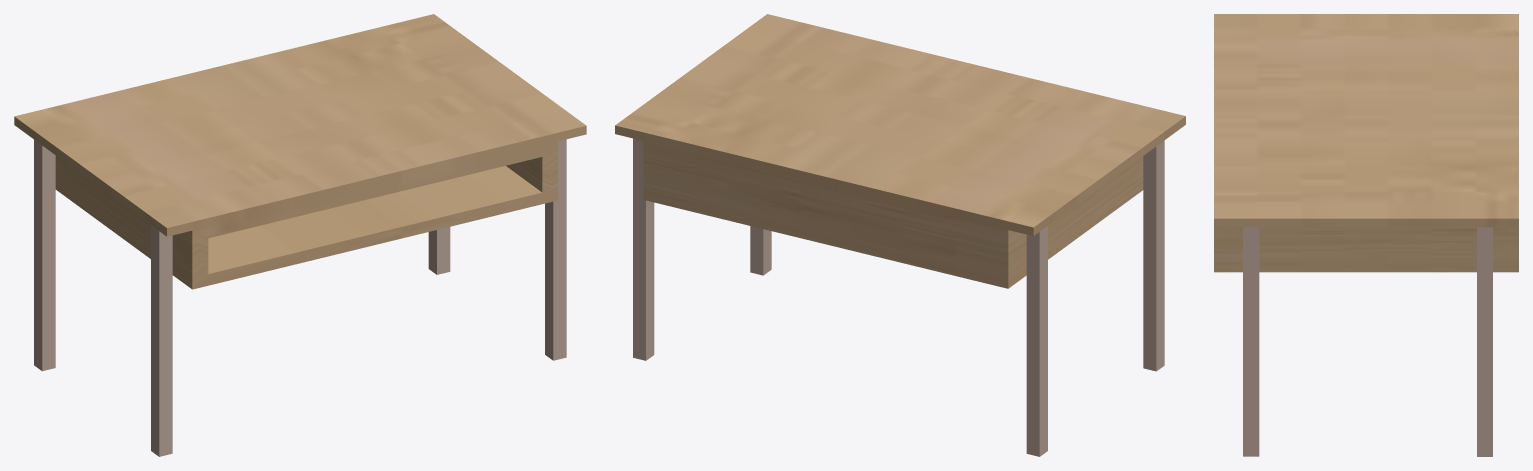
The model's file is Meja.fbx.
3 views of the same model, side by side, from view 1: azimuth 30°, elevation 25°; view 2: azimuth 150°, elevation 25°; view 3: azimuth 270°, elevation 25° (orthographic).
Visible parts, largest first — view 1: Meja.007; view 2: Meja.007; view 3: Meja.007.
Boxes of the visible parts, x1=… form: Meja.007: x1=14, y1=14, x2=586, y2=456; Meja.007: x1=615, y1=14, x2=1185, y2=456; Meja.007: x1=1214, y1=14, x2=1518, y2=456.
Bounding box in the file's own units: 476 × 261 × 300.
2 materials, 1 textured.
